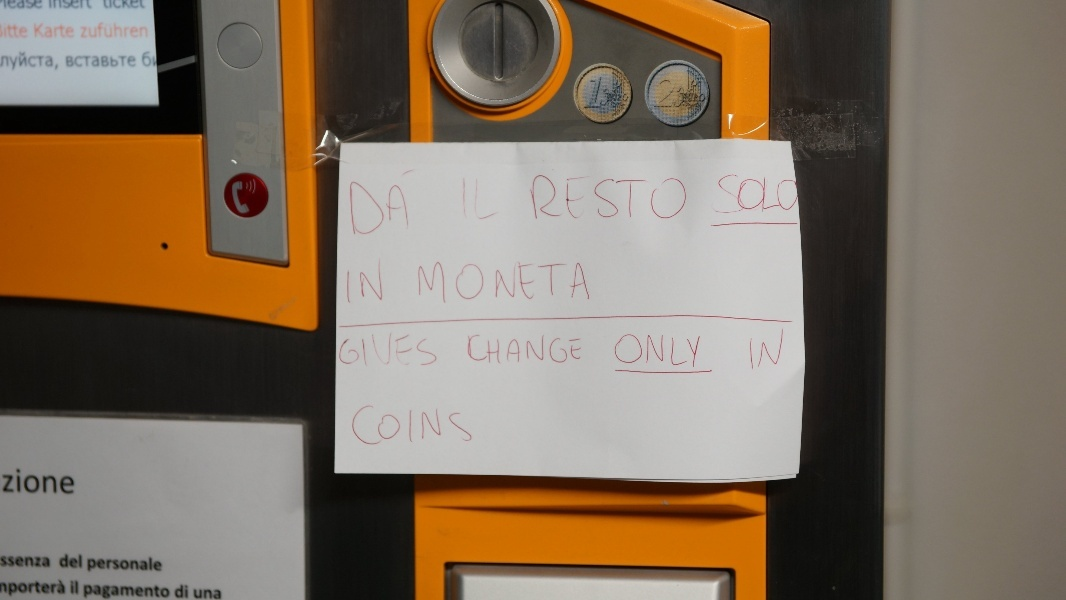text: (353, 176, 368, 240), (369, 176, 384, 240), (385, 176, 400, 240), (465, 171, 480, 231), (481, 171, 496, 231), (401, 176, 415, 240), (529, 173, 544, 228), (545, 173, 560, 228), (561, 173, 576, 228), (577, 173, 592, 228), (593, 173, 608, 228), (609, 173, 624, 228), (625, 173, 640, 228), (641, 173, 656, 228), (657, 173, 672, 228), (673, 173, 688, 228), (353, 256, 368, 310), (369, 256, 384, 310), (417, 259, 432, 310), (433, 259, 448, 310), (449, 259, 464, 310), (465, 259, 480, 310), (481, 259, 496, 310), (497, 259, 512, 310), (513, 259, 528, 310), (529, 259, 544, 310), (545, 259, 560, 310), (561, 259, 576, 310), (577, 259, 592, 310), (721, 170, 736, 220), (737, 170, 752, 220), (753, 170, 768, 220), (769, 170, 784, 220), (785, 170, 800, 220), (753, 327, 768, 374), (769, 327, 784, 374), (353, 404, 368, 450), (369, 404, 384, 450), (385, 404, 400, 450), (401, 404, 416, 450), (417, 404, 432, 450), (433, 404, 448, 450), (449, 404, 464, 450), (337, 331, 352, 370), (353, 331, 368, 370), (369, 331, 384, 370), (385, 331, 400, 370), (401, 331, 416, 370), (417, 331, 432, 370), (343, 176, 352, 240), (481, 332, 496, 366), (497, 332, 512, 366), (513, 332, 528, 366), (529, 332, 544, 366), (545, 332, 560, 366), (561, 332, 576, 366), (625, 334, 640, 368), (641, 334, 656, 368), (657, 334, 672, 368), (673, 334, 688, 368), (689, 334, 704, 368), (465, 404, 476, 450), (710, 170, 720, 220), (343, 256, 352, 310), (497, 171, 505, 231), (657, 77, 672, 109), (466, 332, 480, 366), (593, 76, 607, 110), (17, 468, 32, 497), (33, 468, 48, 497), (49, 468, 64, 497), (457, 171, 464, 231), (612, 334, 624, 368), (2, 468, 16, 497), (65, 468, 77, 497), (17, 50, 32, 73), (33, 50, 48, 73), (2, 50, 16, 73), (433, 331, 440, 370), (81, 22, 96, 40), (97, 22, 112, 40), (113, 22, 128, 40), (129, 22, 144, 40), (1, 579, 16, 596), (17, 579, 32, 596), (33, 579, 48, 596), (49, 579, 64, 596), (65, 553, 80, 570), (1, 22, 16, 39), (33, 22, 48, 39), (49, 22, 64, 39), (49, 50, 60, 73), (97, 584, 112, 600), (113, 584, 128, 600), (129, 584, 144, 600), (145, 584, 160, 600), (97, 558, 112, 574), (113, 558, 128, 574), (129, 558, 144, 574), (145, 558, 160, 574), (577, 332, 584, 366), (82, 584, 96, 600), (17, 556, 32, 570), (33, 556, 48, 570), (65, 55, 80, 69), (81, 55, 96, 69), (97, 55, 112, 69), (113, 55, 128, 69), (17, 22, 29, 39), (748, 327, 752, 374), (785, 327, 789, 374), (3, 556, 16, 570), (69, 580, 80, 596), (65, 22, 75, 39), (177, 585, 189, 599), (525, 173, 528, 228), (689, 173, 692, 228), (609, 92, 624, 103), (193, 589, 208, 600), (17, 1, 32, 12), (33, 1, 48, 12), (49, 1, 64, 12), (65, 1, 80, 12), (81, 1, 96, 12), (97, 1, 112, 12), (113, 1, 128, 12), (129, 1, 144, 12), (385, 256, 388, 310), (673, 77, 678, 109), (86, 558, 96, 574), (2, 1, 16, 12), (145, 50, 153, 69), (689, 93, 704, 103), (161, 584, 170, 600), (209, 589, 222, 600), (349, 404, 352, 450), (129, 55, 137, 69), (589, 76, 592, 110), (58, 553, 64, 570), (334, 331, 336, 370), (625, 92, 632, 103), (145, 22, 149, 40), (682, 93, 688, 103), (141, 50, 144, 69), (415, 259, 416, 310), (593, 259, 594, 310), (801, 170, 802, 220), (49, 556, 52, 570), (81, 553, 83, 570), (605, 92, 608, 103), (145, 1, 148, 12), (655, 77, 656, 109), (161, 558, 163, 574), (174, 585, 176, 599), (705, 93, 707, 103), (79, 22, 80, 40), (65, 579, 66, 596)
